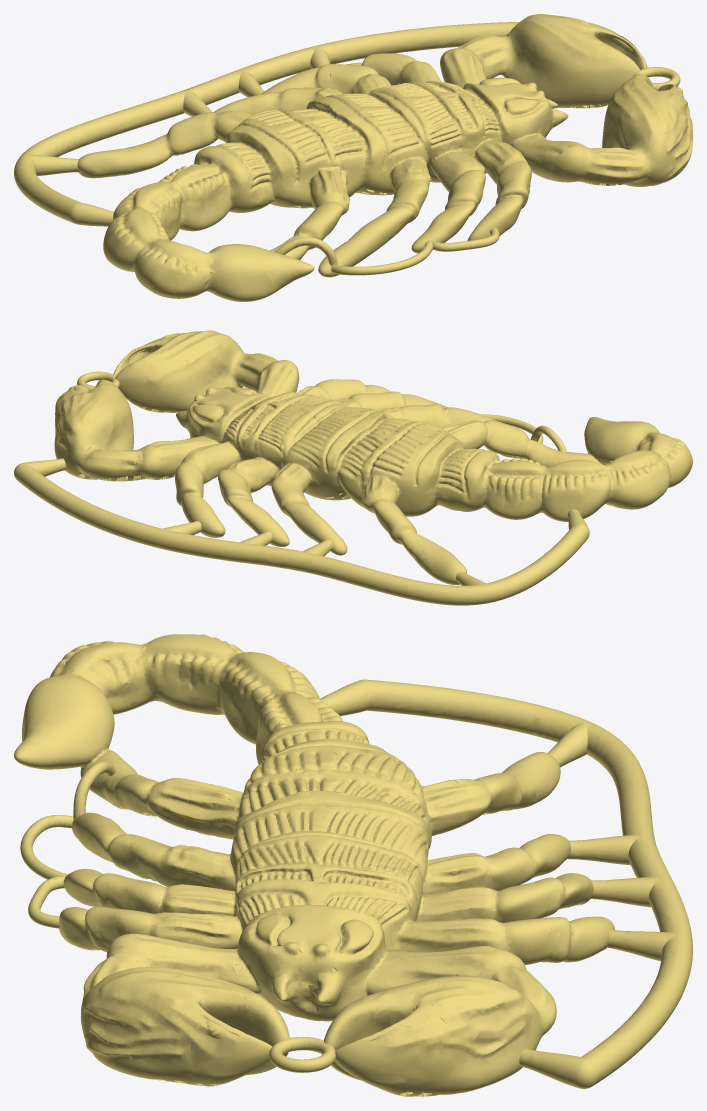
The model's file is akrep.glb.
3 views of the same model, one above another, from view 1: azimuth 30°, elevation 25°; view 2: azimuth 150°, elevation 25°; view 3: azimuth 270°, elevation 25° (orthographic). The views are drawn at different scales.
Parts seen in each view (by area): view 1: Renderer Node; view 2: Renderer Node; view 3: Renderer Node.
Part boxes in pixels (x1,y1,x2,y2): Renderer Node: (14,14,692,301); Renderer Node: (14,330,692,605); Renderer Node: (14,634,692,1096).
Size of the model in its own units: 80.26 by 10.53 by 55.48.
